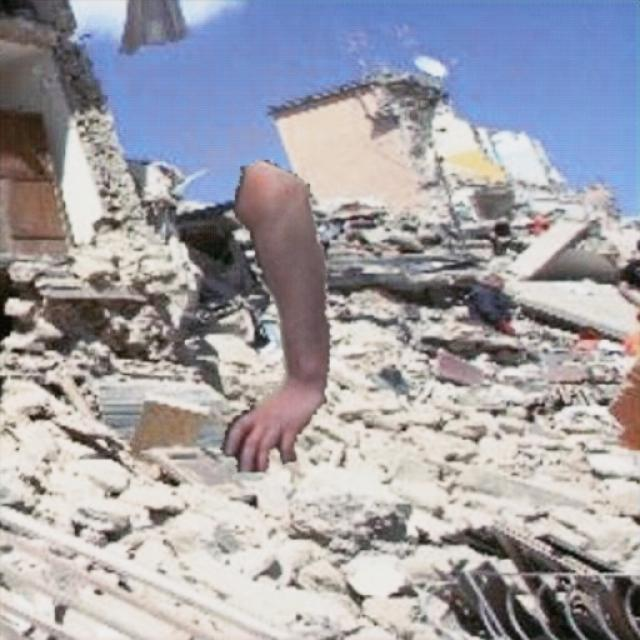Person in Rubble: (220, 160, 331, 471)
